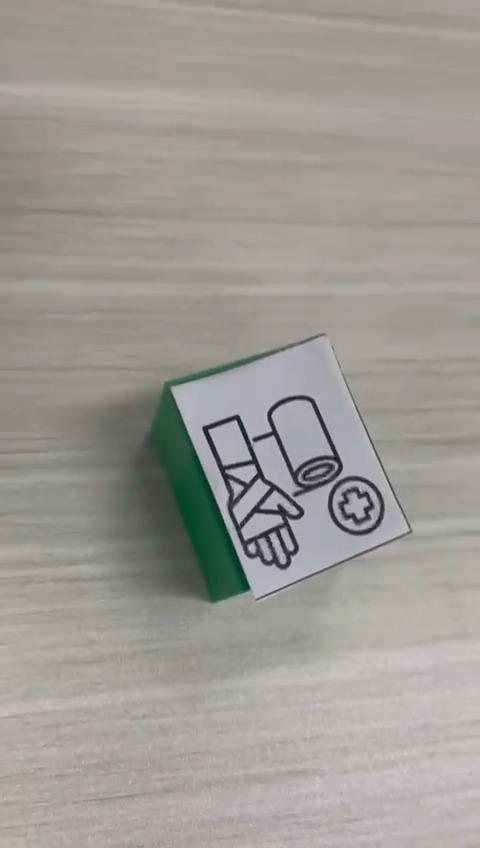Bandages: (153, 330, 412, 603)
